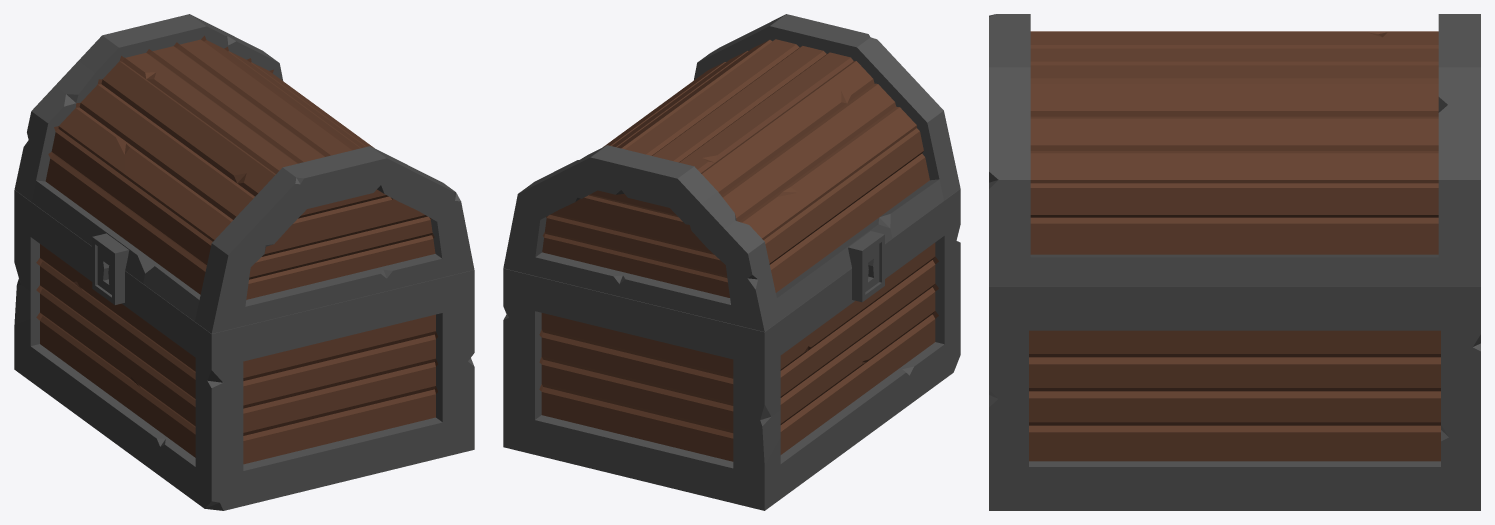
Rendered from treasure chest_final.glb.
3 renders of one model, left to right at view 1: azimuth 30°, elevation 25°; view 2: azimuth 150°, elevation 25°; view 3: azimuth 270°, elevation 25°, orthographic. The views are drawn at different scales.
Visible parts, largest first — view 1: ChestTop, ChestBottom; view 2: ChestTop, ChestBottom; view 3: ChestTop, ChestBottom.
Part boxes in pixels (x1,y1,x2,y2): ChestTop: [14, 14, 474, 333]; ChestBottom: [14, 190, 474, 510]; ChestTop: [503, 14, 960, 331]; ChestBottom: [503, 189, 960, 510]; ChestTop: [989, 14, 1480, 286]; ChestBottom: [989, 286, 1480, 510].
Bounding box in the file's own units: 0.8622 × 0.9437 × 1.08.
